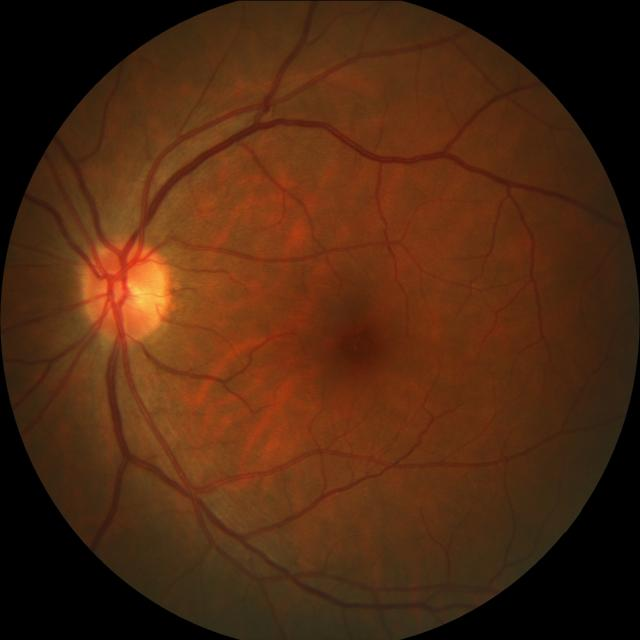OC: (124, 279, 146, 304)
OD: (79, 238, 170, 342)
